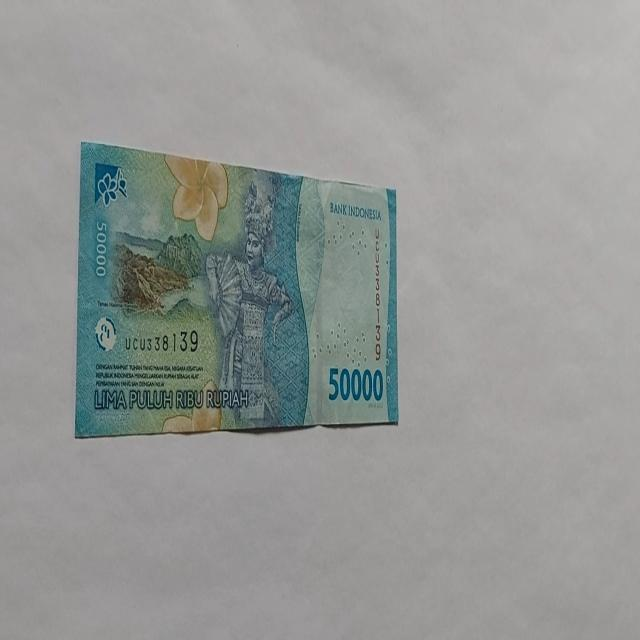lima puluh ribu rupiah: (73, 138, 399, 438)
